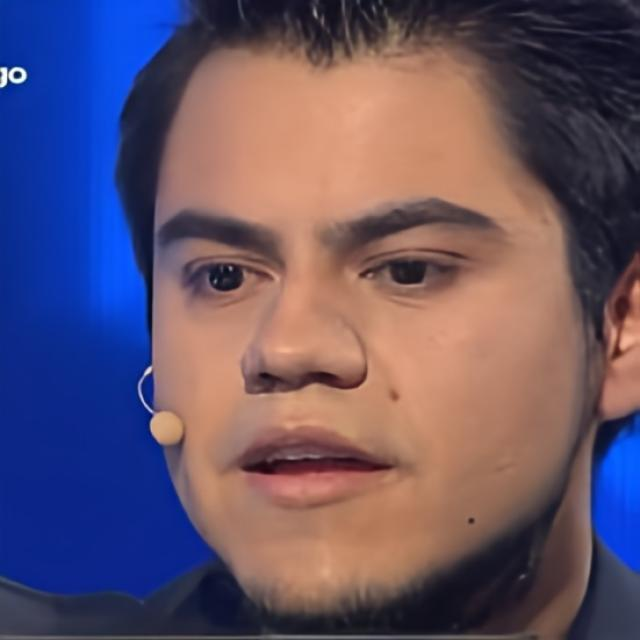anger: (158, 41, 580, 592)
